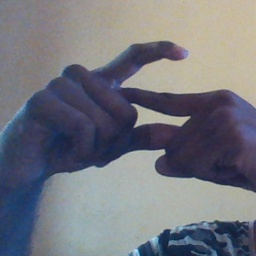E: (101, 37, 208, 156)
